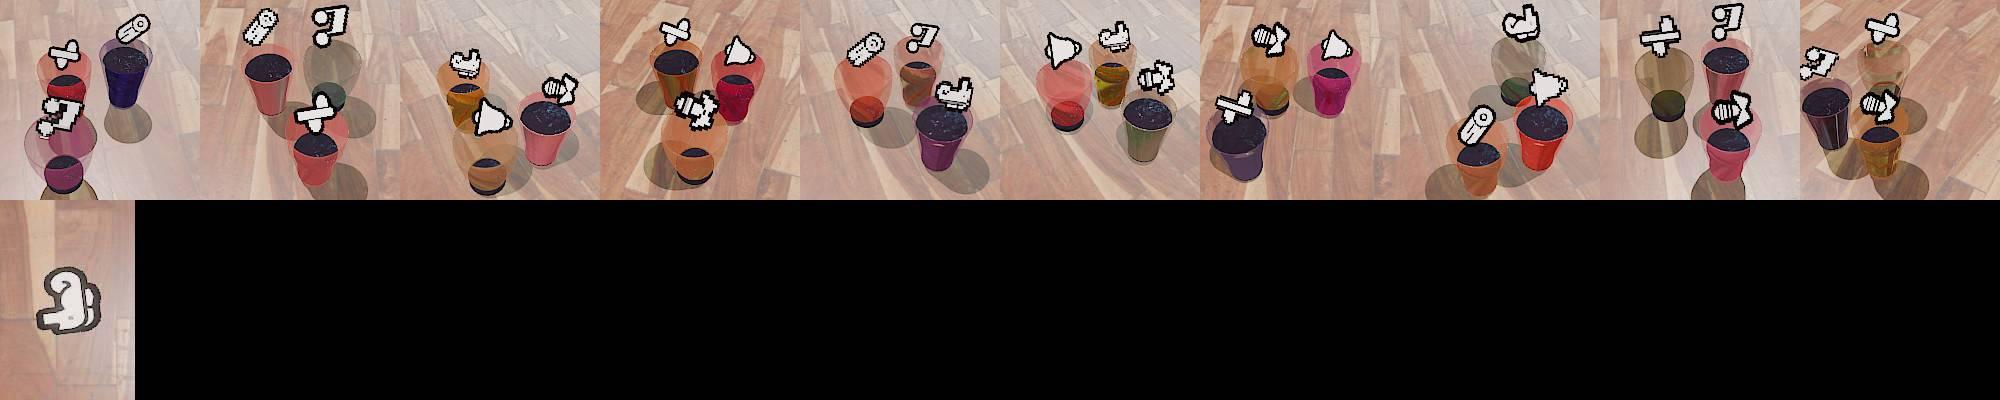icon: (35, 94, 83, 140)
